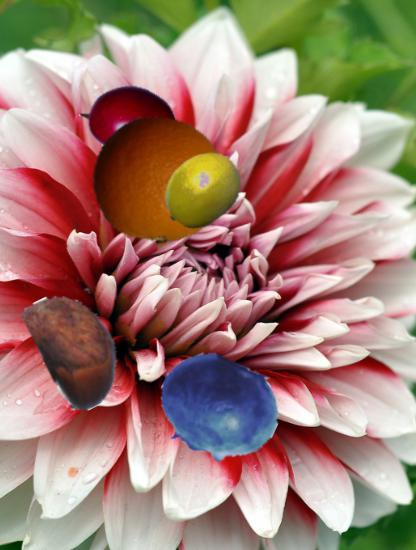Chestnut: (17, 288, 138, 409)
Huckleberry: (158, 347, 280, 469)
Maracuja: (161, 148, 246, 233)
Orange: (92, 113, 224, 245)
Tamarillo: (79, 72, 176, 169)
